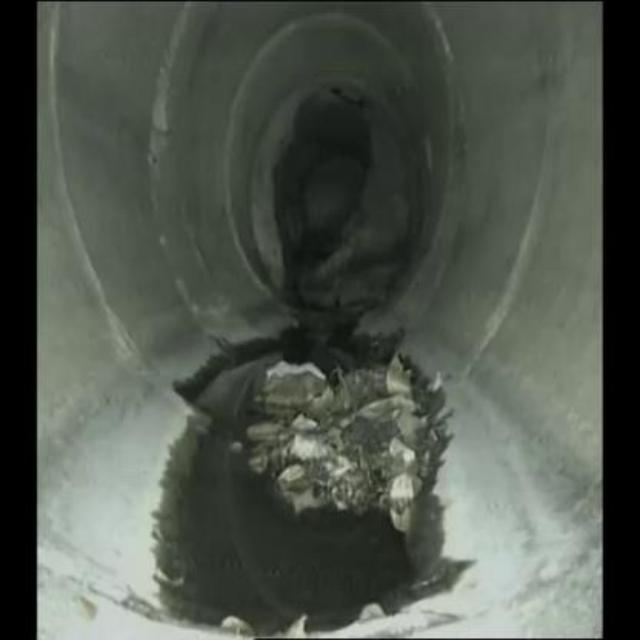Debris: (238, 337, 449, 529)
